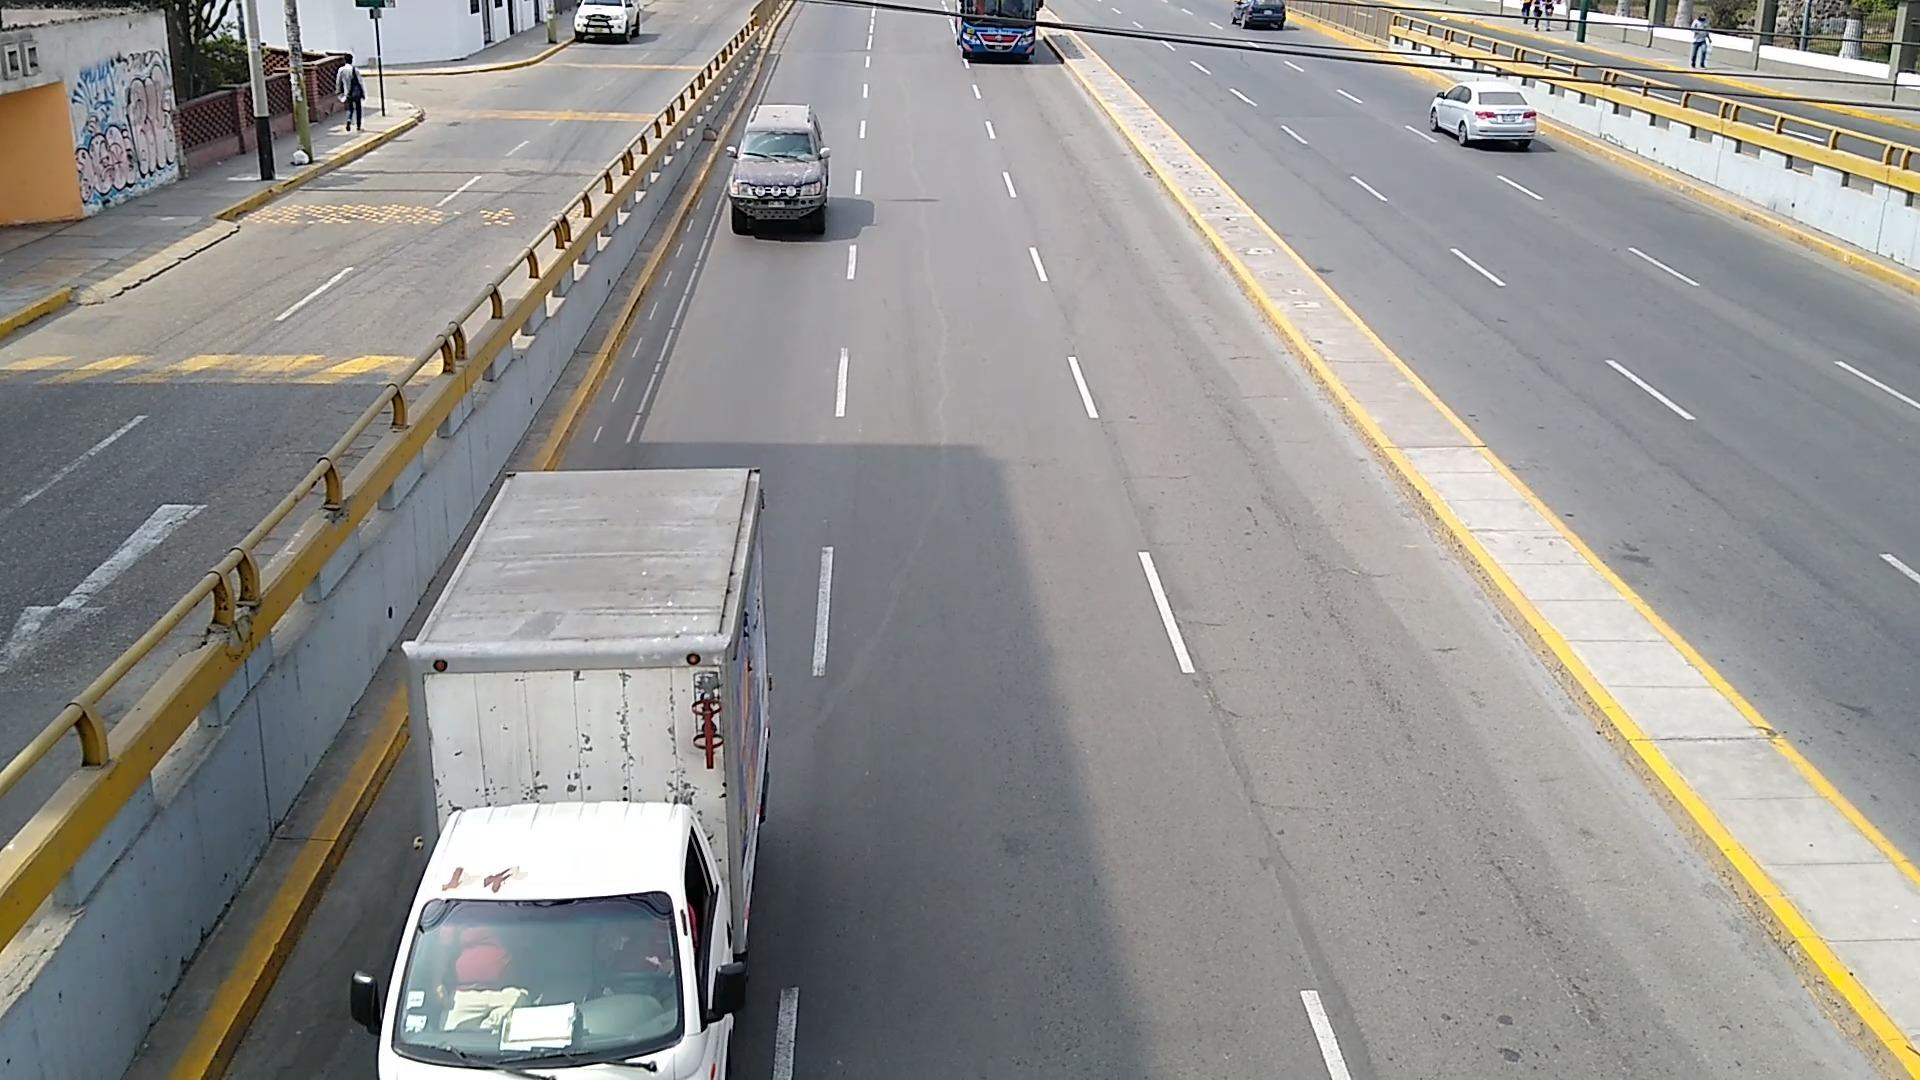bus: (956, 0, 1036, 61)
car: (728, 105, 828, 232), (1428, 83, 1538, 144), (574, 0, 641, 41), (1230, 0, 1286, 30)
